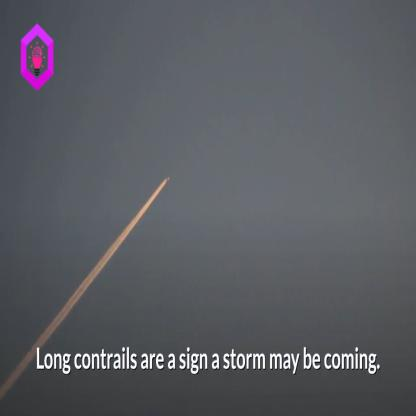plane: (166, 173, 172, 185)
